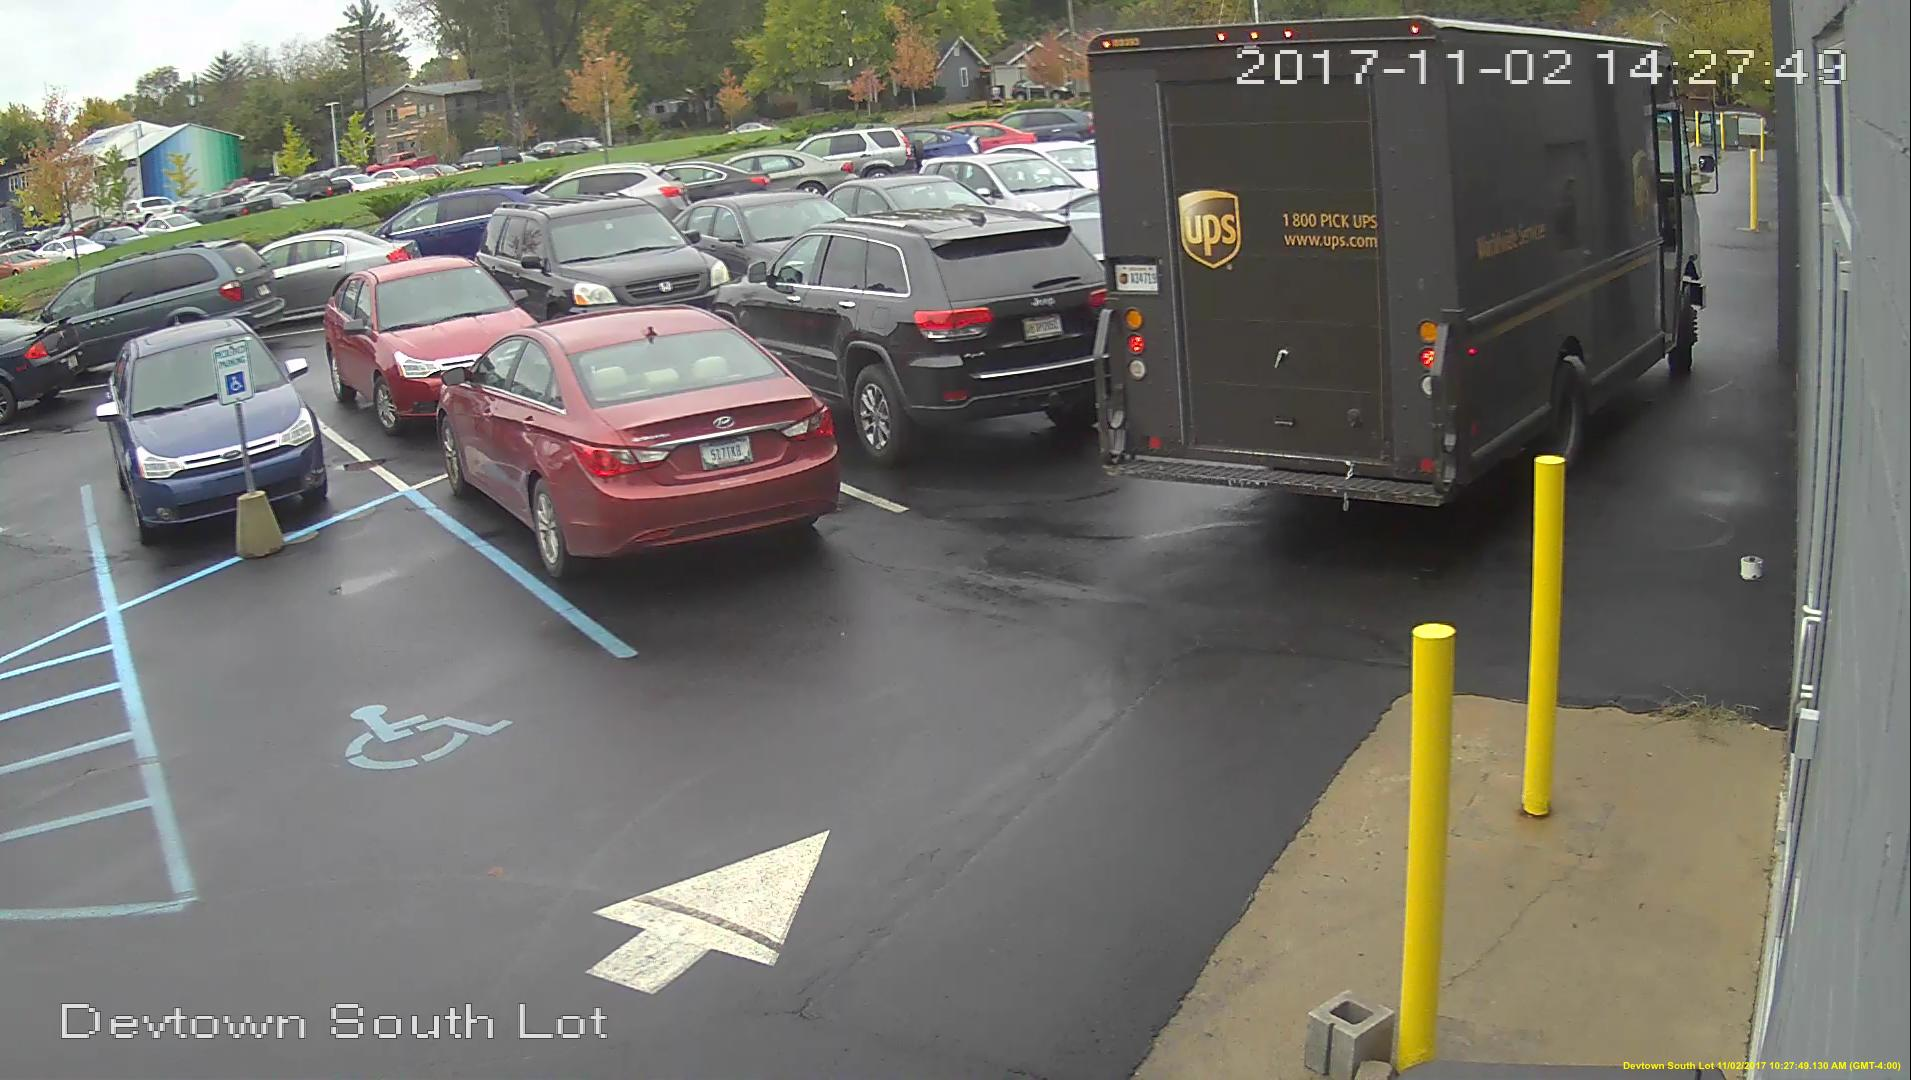ups_truck: (1095, 24, 1697, 504)
